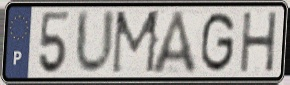5: (37, 10, 71, 77)
A: (149, 9, 200, 76)
G: (198, 10, 237, 75)
H: (239, 10, 280, 75)
M: (109, 8, 163, 77)
U: (73, 7, 117, 78)
